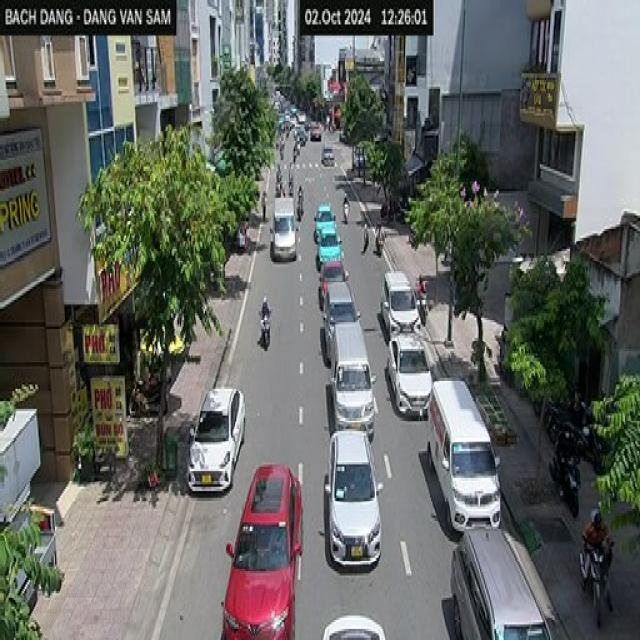car: (220, 462, 302, 638), (428, 384, 504, 536), (448, 529, 548, 640), (322, 427, 382, 569), (186, 384, 245, 494), (331, 318, 373, 432), (387, 341, 435, 417), (266, 195, 300, 268), (321, 606, 389, 640)
motorcycle: (578, 531, 614, 627), (258, 309, 272, 349)
person: (580, 509, 611, 591)
